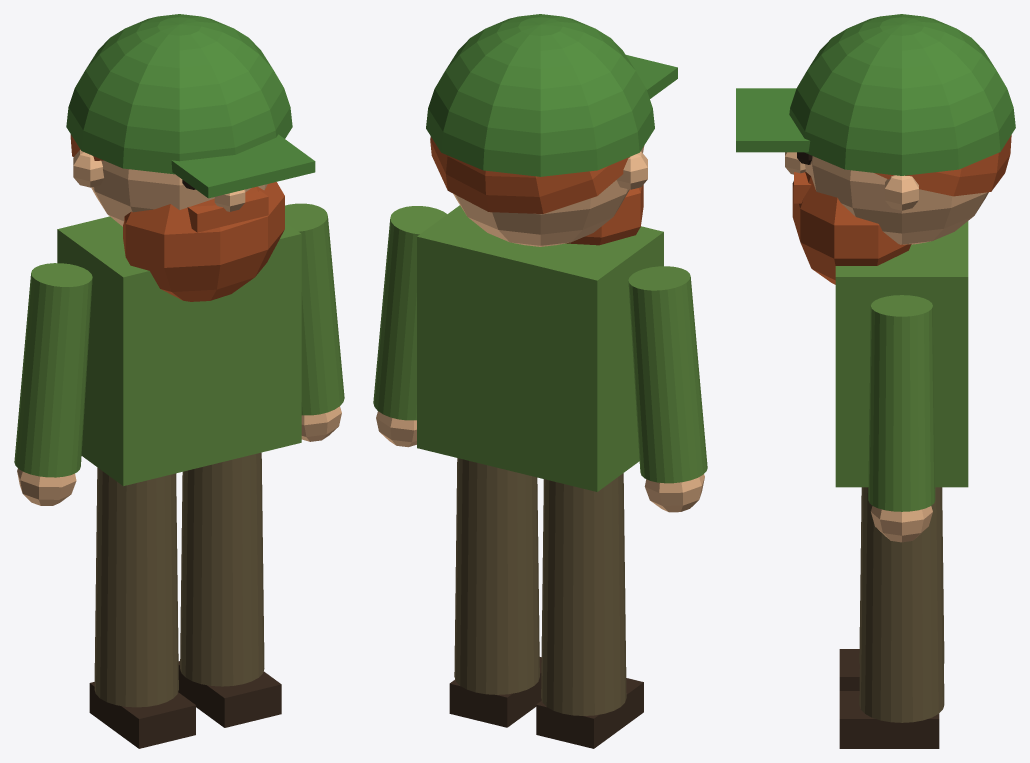
The model's file is FIL.glb.
3 renders of one model, left to right at view 1: azimuth 30°, elevation 25°; view 2: azimuth 150°, elevation 25°; view 3: azimuth 270°, elevation 25°, orthographic.
Visible parts, largest first — view 1: head, torso, leg_left, leg_right, arm_left, arm_right; view 2: torso, head, leg_left, leg_right, arm_left, arm_right; view 3: head, leg_right, torso, arm_right, leg_left.
Part boxes in pixels (<box>): head: <box>66,14,315,301</box>; torso: <box>57,216,301,485</box>; leg_left: <box>89,467,195,748</box>; leg_right: <box>178,452,281,727</box>; arm_left: <box>14,263,92,505</box>; arm_right: <box>285,203,344,441</box>; torso: <box>417,205,663,491</box>; head: <box>426,14,677,246</box>; leg_left: <box>536,473,643,748</box>; leg_right: <box>449,458,541,727</box>; arm_left: <box>628,266,707,512</box>; arm_right: <box>373,206,447,447</box>; head: <box>736,14,1015,284</box>; leg_right: <box>839,487,944,748</box>; torso: <box>835,221,968,487</box>; arm_right: <box>868,295,935,542</box>; leg_left: <box>839,487,944,690</box>.
Size of the model in its own units: 0.9375 by 1.91 by 0.702.
